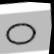no answer: (0, 18, 44, 51)
